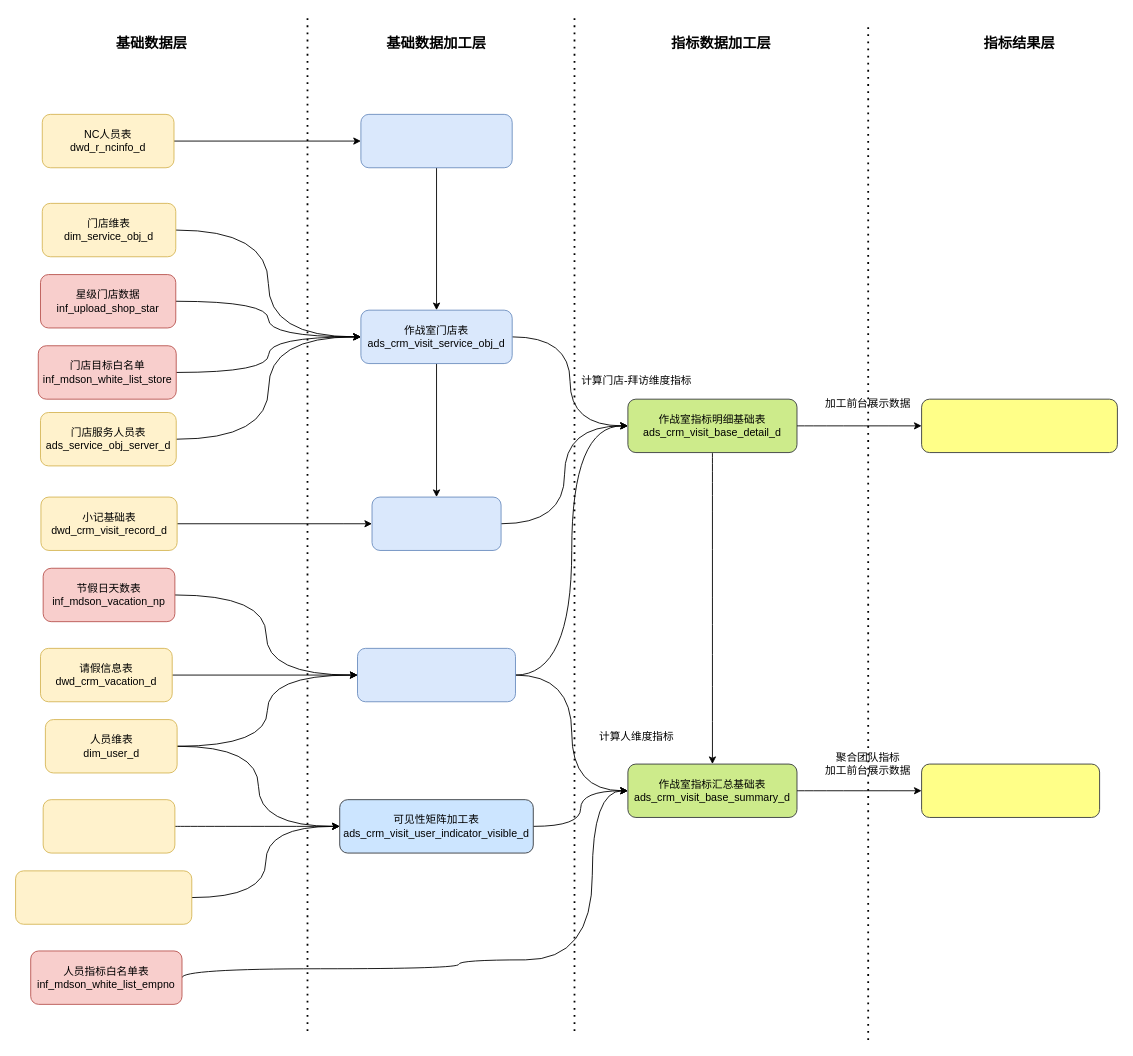
Some shapes in this 1133 by 1056 pixel diagram are drawn without their labels. Each missing label, with the centre of its shape:
"NC标签表 ads_crm_nc_shop_d" belongs at (436,140).
"人员工作日折算表 ads_crm_visit_user_workday_d" belongs at (436,674).
"作战室小记表 ads_crm_visit_record_d" belongs at (436,523).
"作战室指标明细结果表 ads_crm_visit_user_indicator_detail_d" belongs at (1019,425).
"作战室指标汇总结果表 ads_crm_visit_user_indicator_d" belongs at (1010,790).
"可见性矩阵表表 dwd_crm_visit_indicator_visible_d" belongs at (103,897).
"指标表 dwd_crm_indicator_d" belongs at (108,826).
